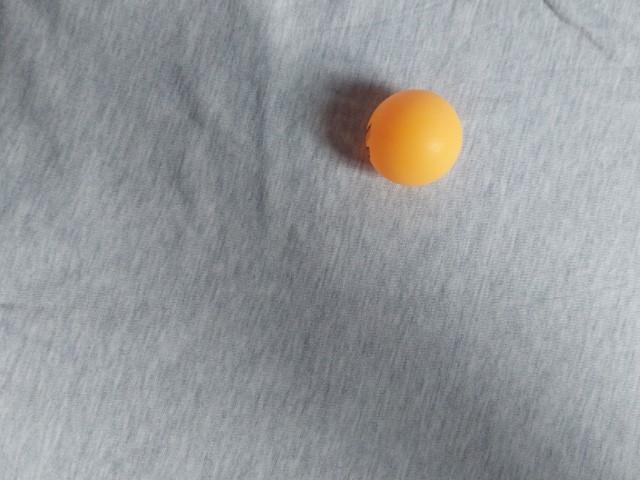oball: (170, 288, 280, 397)
